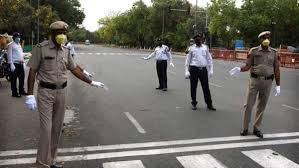mask: (48, 21, 67, 45), (259, 31, 271, 47), (192, 32, 202, 45), (11, 31, 21, 42), (156, 37, 163, 47)
